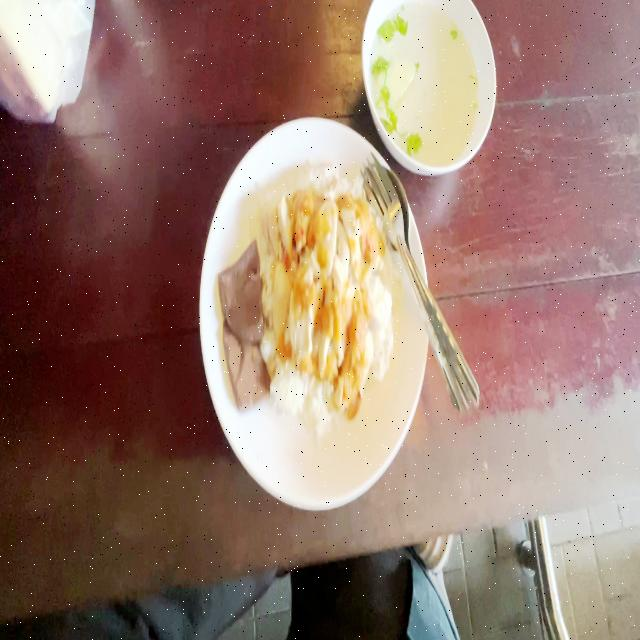boiled_chicken: (272, 185, 376, 385)
boiled_chicken_blood_jelly: (218, 240, 265, 344), (223, 321, 270, 409)
chicken_rice: (215, 157, 394, 429)
